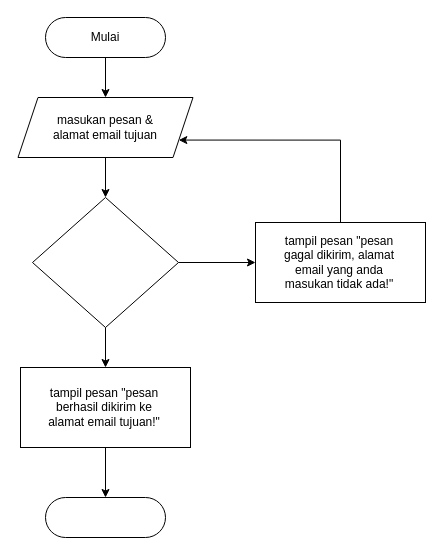
The diagram is 443 pixels wide and 555 high, and some of its shapes have lost their labels. Here are the shapes that lost their labels. From the top down, the centre of each, then its label:
[105,262]: Periksa apakah email valid & sudah terdaftar
[105,517]: Selesai
